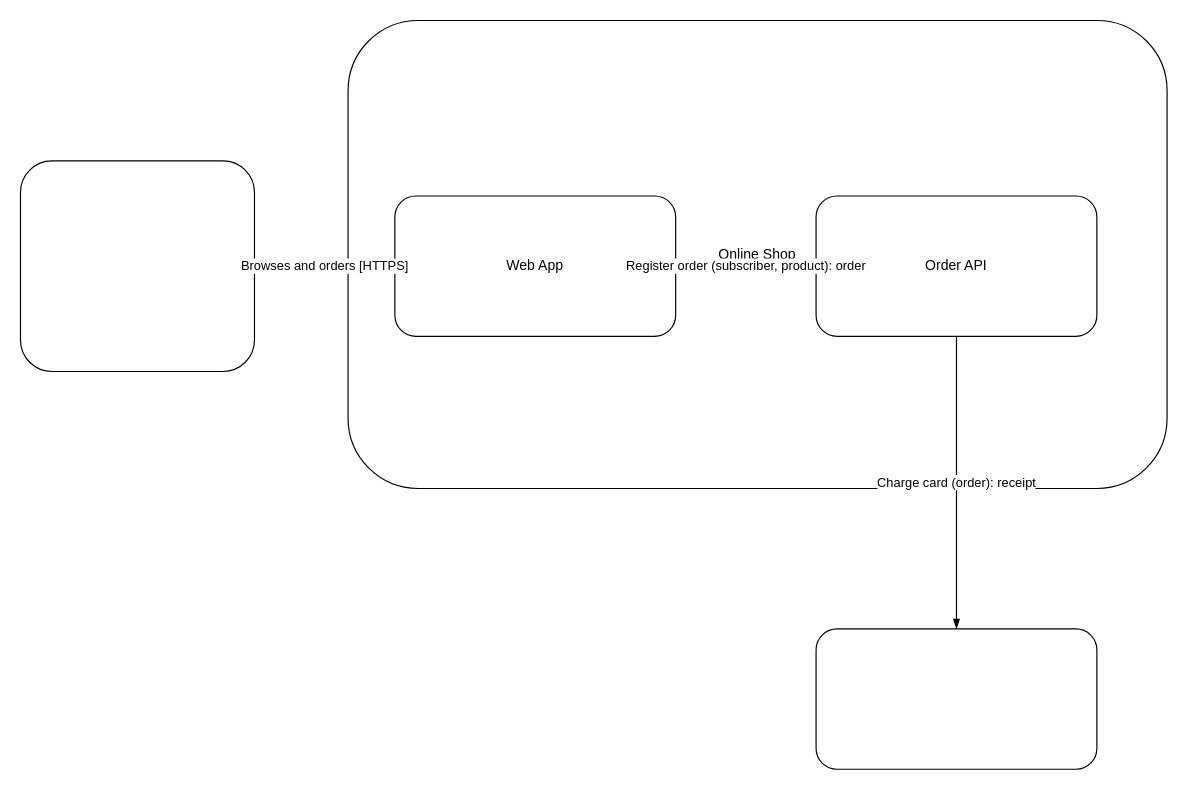
Some shapes in this 1188 by 790 pixel diagram are drawn without their labels. The centre of each missing label's shape, as x and y in pixels:
Customer: [136,265]
Payment Provider: [956,698]
